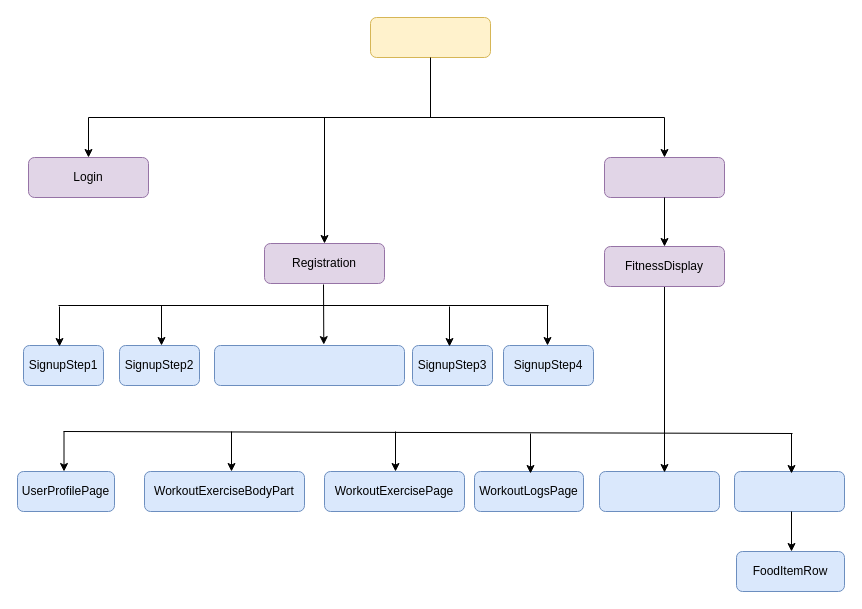
Some shapes in this 862 by 609 pixel diagram are drawn without their labels. The shapes that lost their labels are listed below. From the top down, each one's centre as x and y in pixels, then its label:
the point at 430,37: App
the point at 664,177: Protected Route
the point at 309,365: SignupStep2bReccomendations
the point at 659,491: FitnessDashboard
the point at 789,491: NutritionLogsPage
